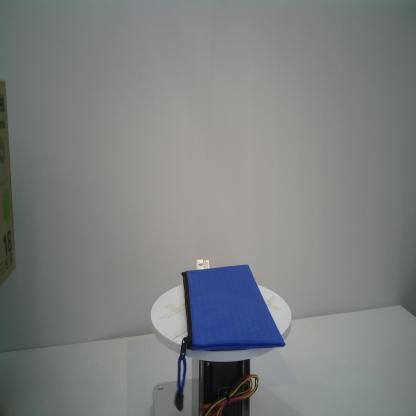Stationery: (173, 256, 287, 412)
